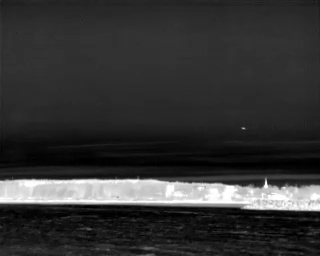BIRD: (240, 124, 247, 132)
